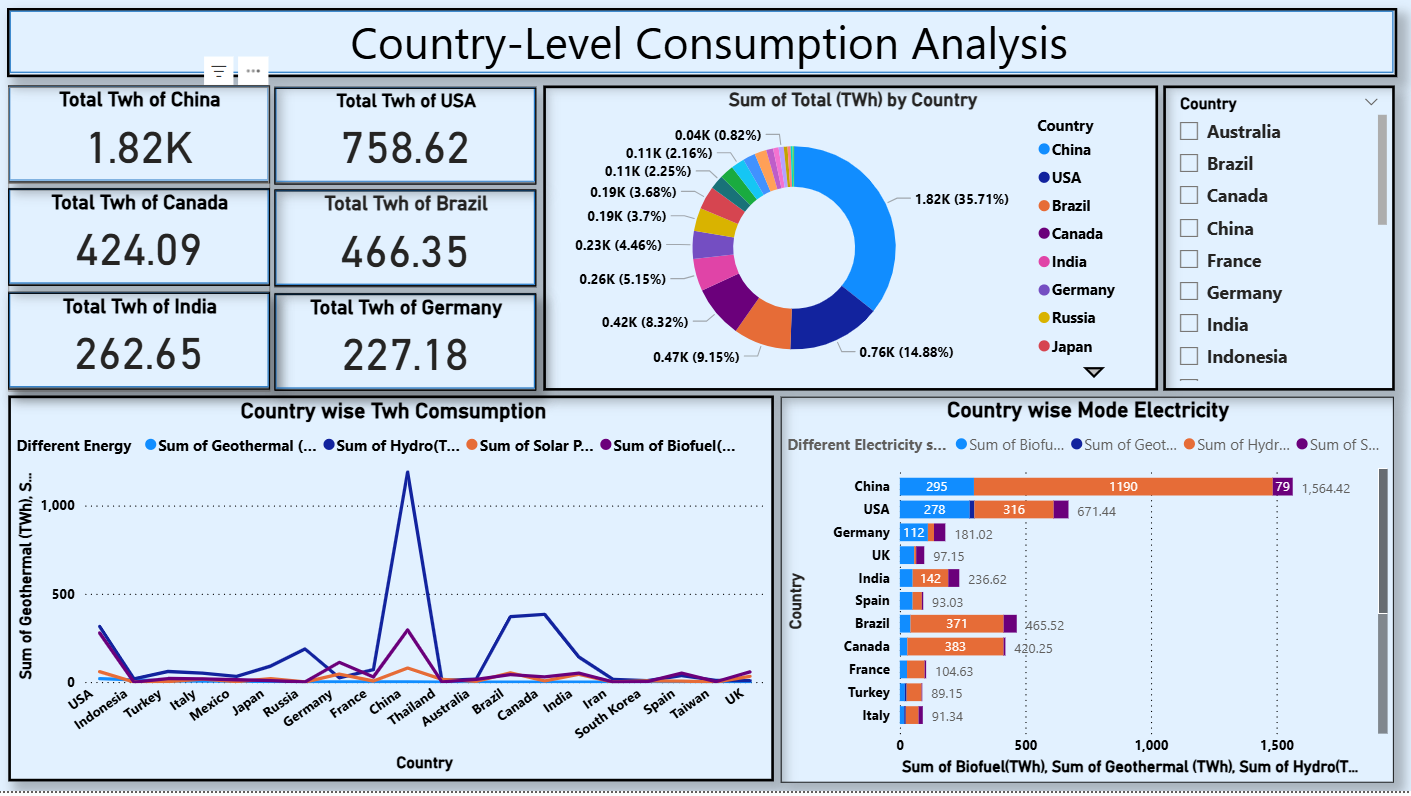

What the dashboard file says about the page in this screenshot:
{"tool":"powerbi","page":{"name":"Country  Level  consumption Analysis ","canvas":[1280,720],"ordinal":3},"visuals":[{"type":"shape","box":[13,13,1253.8,62],"z":0},{"type":"group","id":"g1","title":"Group 5","box":[14.9,83.7,236,88.9],"z":0,"group":"g3"},{"type":"shape","box":[14.9,83.7,236,87],"z":0,"group":"g1"},{"type":"group","id":"g2","title":"Group 5","box":[255.2,84.3,236,88.9],"z":0,"group":"g6"},{"type":"shape","box":[255.2,84.3,236,87],"z":0,"group":"g2"},{"type":"shape","box":[14.9,176.4,236,87.4],"z":0,"group":"g4"},{"type":"shape","box":[255.2,177,236,87.4],"z":0,"group":"g5"},{"type":"shape","box":[14.9,269.9,236,87.4],"z":0,"group":"g7"},{"type":"shape","box":[255.2,270.5,236,87.4],"z":0,"group":"g8"},{"type":"group","id":"g3","title":"Group 8","box":[14.9,83.7,236.6,275.6],"z":1000},{"type":"card","title":"Total Twh of China","fields":{"Values":["top20CountriesPowerGeneration.Total of china(Twh)"]},"box":[14.9,85.2,236,87.4],"z":1000,"group":"g1"},{"type":"card","title":"Total Twh of USA","fields":{"Values":["top20CountriesPowerGeneration.Total USA(Twh)"]},"box":[255.2,85.8,236,87.4],"z":1000,"group":"g2"},{"type":"group","id":"g4","title":"Group 6","box":[14.9,176.4,236,89.1],"z":1000,"group":"g3"},{"type":"group","id":"g5","title":"Group 6","box":[255.2,177,236,89.1],"z":1000,"group":"g6"},{"type":"card","title":"Total Twh of Canada","fields":{"Values":["top20CountriesPowerGeneration.Total Canada(Twh)"]},"box":[14.9,178,235.9,87.5],"z":1000,"group":"g4"},{"type":"card","title":"Total  Twh of Brazil","fields":{"Values":["top20CountriesPowerGeneration.Total Brazil(Twh)"]},"box":[255.2,178.6,235.9,87.5],"z":1000,"group":"g5"},{"type":"card","title":"Total Twh of India","fields":{"Values":["top20CountriesPowerGeneration.Total India(Twh)"]},"box":[15,271.5,235.9,87.5],"z":1000,"group":"g7"},{"type":"card","title":"Total Twh of Germany","fields":{"Values":["top20CountriesPowerGeneration.Total Germany(twh)"]},"box":[255.3,272.1,235.9,87.5],"z":1000,"group":"g8"},{"type":"group","id":"g6","title":"Group 8","box":[255.2,84.3,236.6,275.6],"z":2000},{"type":"group","id":"g7","title":"Group 7","box":[14.9,269.9,236,89.1],"z":2000,"group":"g3"},{"type":"group","id":"g8","title":"Group 7","box":[255.2,270.5,236,89.1],"z":2000,"group":"g6"},{"type":"donutChart","fields":{"Y":["Sum(top20CountriesPowerGeneration.Total (TWh))"],"Category":["top20CountriesPowerGeneration.Country"]},"box":[497,83.7,554,275],"z":3000},{"type":"slicer","fields":{"Values":["top20CountriesPowerGeneration.Country"]},"box":[1056,83.7,209,275],"z":4000},{"type":"lineChart","title":"Country wise Twh Comsumption ","fields":{"Category":["top20CountriesPowerGeneration.Country"],"Y":["Sum(top20CountriesPowerGeneration.Geothermal (TWh))","Sum(top20CountriesPowerGeneration.Hydro(TWh))","Sum(top20CountriesPowerGeneration.Solar PV (TWh))","Sum(top20CountriesPowerGeneration.Biofuel(TWh))"]},"box":[14.4,363,690,347.7],"z":5000},{"type":"barChart","title":"Country wise Mode Electricity ","fields":{"Category":["top20CountriesPowerGeneration.Country"],"Y":["Sum(top20CountriesPowerGeneration.Biofuel(TWh))","Sum(top20CountriesPowerGeneration.Geothermal (TWh))","Sum(top20CountriesPowerGeneration.Hydro(TWh))","Sum(top20CountriesPowerGeneration.Solar PV (TWh))"]},"box":[711,363.6,553,347.7],"z":6000}]}

Visuals, with their boxes in screenshot pixels (x1, y1, x2, y2), scaled from the page's 1280x720 canvas onto the 1411x796 screenshot:
shape: box=[14, 14, 1396, 83]
"Group 5" group: box=[16, 93, 277, 191]
shape: box=[16, 93, 277, 189]
"Group 5" group: box=[281, 93, 541, 191]
shape: box=[281, 93, 541, 189]
shape: box=[16, 195, 277, 292]
shape: box=[281, 196, 541, 292]
shape: box=[16, 298, 277, 395]
shape: box=[281, 299, 541, 396]
"Group 8" group: box=[16, 93, 277, 397]
"Total Twh of China" card: box=[16, 94, 277, 191]
"Total Twh of USA" card: box=[281, 95, 541, 191]
"Group 6" group: box=[16, 195, 277, 294]
"Group 6" group: box=[281, 196, 541, 294]
"Total Twh of Canada" card: box=[16, 197, 276, 294]
"Total  Twh of Brazil" card: box=[281, 197, 541, 294]
"Total Twh of India" card: box=[17, 300, 277, 397]
"Total Twh of Germany" card: box=[281, 301, 541, 398]
"Group 8" group: box=[281, 93, 542, 398]
"Group 7" group: box=[16, 298, 277, 397]
"Group 7" group: box=[281, 299, 541, 398]
donutChart - Sum(top20CountriesPowerGeneration.Total (TWh)) x top20CountriesPowerGeneration.Country: box=[548, 93, 1159, 397]
slicer - top20CountriesPowerGeneration.Country: box=[1164, 93, 1394, 397]
"Country wise Twh Comsumption " lineChart: box=[16, 401, 776, 786]
"Country wise Mode Electricity " barChart: box=[784, 402, 1393, 786]
